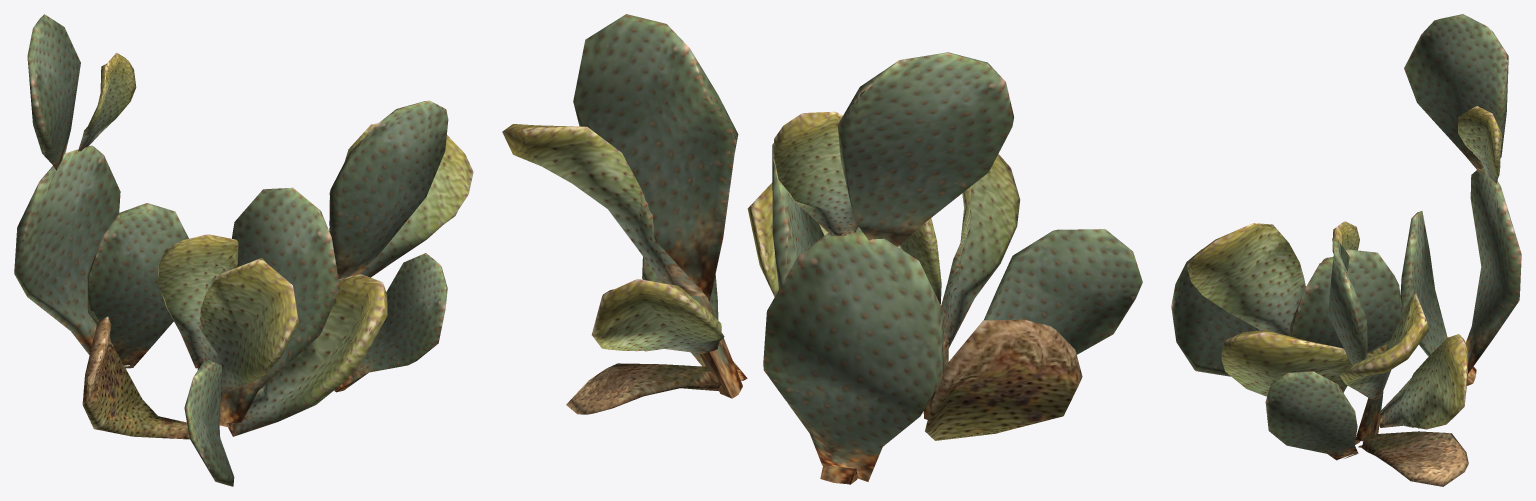
Rendered from DesertPlant05B.FBX.
The picture shows the model from 3 angles, left to right: view 1: azimuth 30°, elevation 25°; view 2: azimuth 150°, elevation 25°; view 3: azimuth 270°, elevation 25°; orthographic projection. The views are drawn at different scales.
Visible parts, largest first — view 1: DesertPlant05B; view 2: DesertPlant05B; view 3: DesertPlant05B.
Boxes of the visible parts, box(x1,y1,x2,y2) form: DesertPlant05B: box(14, 14, 473, 486); DesertPlant05B: box(502, 14, 1142, 484); DesertPlant05B: box(1171, 14, 1521, 486).
Bounding box in the file's own units: 4.28 × 3.69 × 3.4.
Materials: 1 (1 with a texture image).
